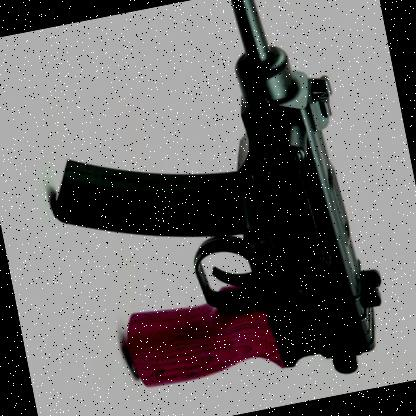rifle: (28, 0, 399, 408)
